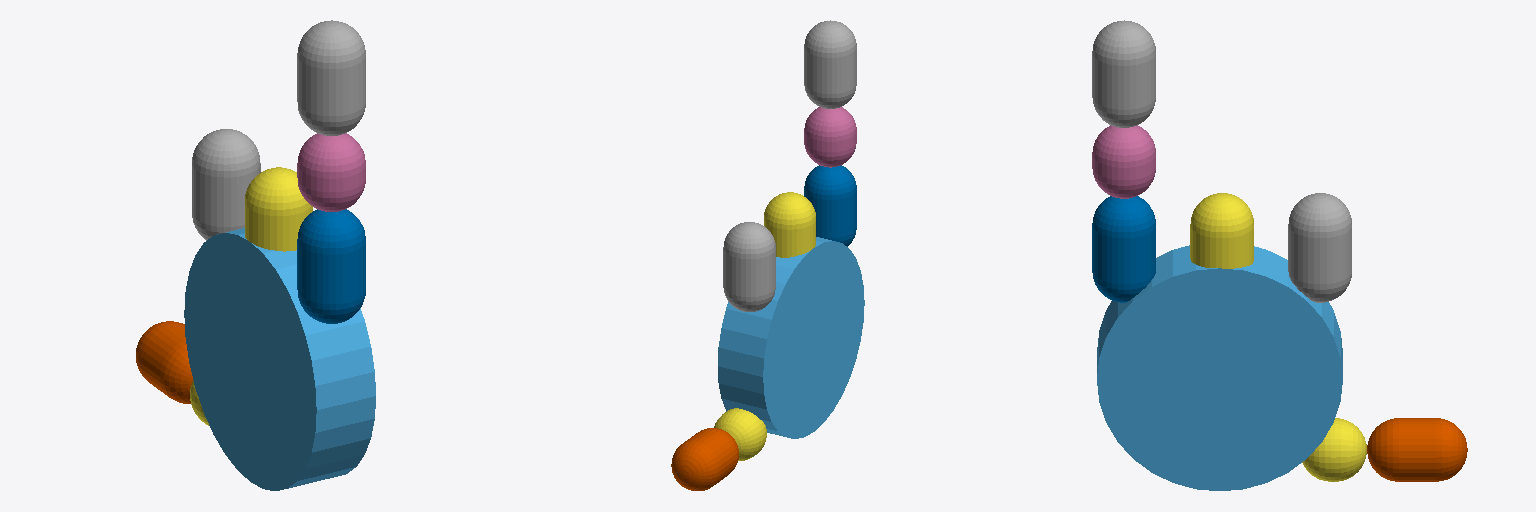
URDF robot description (DexterousHand):
<?xml version="1.0"?>
<robot name="DexterousHand">


    <link name="world"/>
    <joint name="world_to_palm" type="fixed">
        <parent link="world"/>
        <child link="palm"/>
        <origin xyz="0 0 0" rpy="0 0 0"/>
    </joint>
    <link name="palm">
        <inertial>
            <origin xyz="0 0 0.057" rpy="0 0 0"/>
            <mass value="0.30212892864"/>
            <inertia ixx="0.00049080844457568" ixy="0.0" ixz="0.0" iyy="0.00026746366246427523" iyz="0.0" izz="0.00026746366246427523"/>
        </inertial>
        <visual>
            <origin xyz="0 0 0.057" rpy="1.5708 0 1.5708"/>
            <geometry>
                <cylinder radius="0.057" length="0.0296"/>
            </geometry>
            <material name="default"/>
        </visual>
        <collision>
            <origin xyz="0 0 0.057" rpy="1.5708 0 1.5708"/>
            <geometry>
                <cylinder radius="0.057" length="0.0296"/>
            </geometry>
        </collision>
    </link>

    
    <joint name="thumb_joint1" type="revolute">
        <parent link="palm"/>
        <child link="thumb_base"/>
        <origin xyz="0.0029 0.0368 0.0157" rpy="-1.5708 -1.5708 0.0"/>
        <axis xyz="-1 0 0"/>
        <limit lower="-0.349" upper="2.094" effort="1.0" velocity="1.0"/>
    </joint>

    <link name="thumb_base"></link>

    <joint name="thumb_joint2" type="revolute">
        <parent link="thumb_base"/>
        <child link="thumb_proximal"/>
        <origin xyz="0.0 0.0 0.0" rpy="0.0 0.0 0.0"/>
        <axis xyz="0 0 1"/>
        <limit lower="-0.47" upper="2.443" effort="1.0" velocity="1.0"/>
    </joint>

    <link name="thumb_proximal">
        <inertial>
            <origin xyz="0 0 0.01565" rpy="0 0 0"/>
            <mass value="0.021538658803200002"/>
            <inertia ixx="2.9378910096388167e-06" ixy="0.0" ixz="0.0" 
            iyy="2.9378910096388167e-06" iyz="0.0" izz="2.358913912126464e-06"/>
        </inertial>
        <visual>
            <origin xyz="0 0 0.01565" rpy="0 0 0"/>
            <geometry>
                <cylinder radius="0.0148" length="0.0017000000000000001"/>
            </geometry>
            <material name="default"/>
        </visual>
        <visual>
            <origin xyz="0 0 0.0148" rpy="0 0 0"/>
            <geometry>
                <sphere radius="0.0148"/>
            </geometry>
            <material name="default"/>
        </visual>
        <visual>
            <origin xyz="0 0 0.0165" rpy="0 0 0"/>
            <geometry>
                <sphere radius="0.0148"/>
            </geometry>
            <material name="default"/>
        </visual>
        <collision>
            <origin xyz="0 0 0.01565" rpy="0 0 0"/>
            <geometry>
                <cylinder radius="0.0148" length="0.0017000000000000001"/>
            </geometry>
        </collision>
        <collision>
            <origin xyz="0 0 0.0148" rpy="0 0 0"/>
            <geometry>
                <sphere radius="0.0148"/>
            </geometry>
        </collision>
        <collision>
            <origin xyz="0 0 0.0165" rpy="0 0 0"/>
            <geometry>
                <sphere radius="0.0148"/>
            </geometry>
        </collision>
    </link>

    <joint name="thumb_joint3" type="revolute">
        <parent link="thumb_proximal"/>
        <child link="thumb_knuckle"/>
        <origin xyz="0.0 0.0 0.0313" rpy="0.0 0.0 0.0"/>
        <axis xyz="1 0 0"/>
        <limit lower="0.0" upper="0.0" effort="1.0" velocity="1.0"/>
    </joint>

    <link name="thumb_knuckle"></link>

    <joint name="thumb_joint4" type="revolute">
        <parent link="thumb_knuckle"/>
        <child link="thumb_middle"/>
        <origin xyz="0 0 0" rpy="0 0 0"/> 
        <axis xyz="0 1 0"/>
        <limit lower="-1.2" upper="1.9" effort="1.0" velocity="1.0"/>
    </joint>

    <link name="thumb_middle">
        <inertial>
            <origin xyz="0 0 0.0233" rpy="0 0 0"/>
            <mass value="0.032067140582400004"/>
            <inertia ixx="7.5589732685519385e-06" ixy="0.0" ixz="0.0" 
            iyy="7.5589732685519385e-06" iyz="0.0" izz="3.5119932365844485e-06"/>
        </inertial>
        <visual>
            <origin xyz="0 0 0.0233" rpy="0 0 0"/>
            <geometry>
                <cylinder radius="0.0148" length="0.017"/>
            </geometry>
            <material name="default"/>
        </visual>
        <visual>
            <origin xyz="0 0 0.0148" rpy="0 0 0"/>
            <geometry>
                <sphere radius="0.0148"/>
            </geometry>
            <material name="default"/>
        </visual>
        <visual>
            <origin xyz="0 0 0.0318" rpy="0 0 0"/>
            <geometry>
                <sphere radius="0.0148"/>
            </geometry>
            <material name="default"/>
        </visual>
        <collision>
            <origin xyz="0 0 0.0233" rpy="0 0 0"/>
            <geometry>
                <cylinder radius="0.0148" length="0.017"/>
            </geometry>
        </collision>
        <collision>
            <origin xyz="0 0 0.0148" rpy="0 0 0"/>
            <geometry>
                <sphere radius="0.0148"/>
            </geometry>
        </collision>
        <collision>
            <origin xyz="0 0 0.0318" rpy="0 0 0"/>
            <geometry>
                <sphere radius="0.0148"/>
            </geometry>
        </collision>
    </link>

    <joint name="thumb_joint5" type="revolute">
        <parent link="thumb_middle"/>
        <child link="thumb_distal"/>
        <origin xyz="0 0 0.0466" rpy="0 0 0"/> 
        <axis xyz="0 1 0"/>
        <limit lower="0.0" upper="0.0" effort="1.0" velocity="1.0"/>
    </joint>

    <link name="thumb_distal">
    </link>

    
    <joint name="index_joint1" type="revolute">
        <parent link="palm"/>
        <child link="index_proximal"/>
        <origin xyz="0.0 0.0465 0.091" rpy="0.0 0.0 0.0"/>
        <axis xyz="0 1 0"/>
        <limit lower="-0.314" upper="2.23" effort="1.0" velocity="1.0"/>
    </joint>

    <link name="index_proximal">
        <inertial>
            <origin xyz="0 0 0.02655" rpy="0 0 0"/>
            <mass value="0.036540024998400006"/>
            <inertia ixx="1.058665009272394e-05" ixy="0.0" ixz="0.0" 
            iyy="1.058665009272394e-05" iyz="0.0" izz="4.001863537824769e-06"/>
        </inertial>
        <visual>
            <origin xyz="0 0 0.02655" rpy="0 0 0"/>
            <geometry>
                <cylinder radius="0.0148" length="0.0235"/>
            </geometry>
            <material name="default"/>
        </visual>
        <visual>
            <origin xyz="0 0 0.0148" rpy="0 0 0"/>
            <geometry>
                <sphere radius="0.0148"/>
            </geometry>
            <material name="default"/>
        </visual>
        <visual>
            <origin xyz="0 0 0.0383" rpy="0 0 0"/>
            <geometry>
                <sphere radius="0.0148"/>
            </geometry>
            <material name="default"/>
        </visual>
        <collision>
            <origin xyz="0 0 0.02655" rpy="0 0 0"/>
            <geometry>
                <cylinder radius="0.0148" length="0.0235"/>
            </geometry>
        </collision>
        <collision>
            <origin xyz="0 0 0.0148" rpy="0 0 0"/>
            <geometry>
                <sphere radius="0.0148"/>
            </geometry>
        </collision>
        <collision>
            <origin xyz="0 0 0.0383" rpy="0 0 0"/>
            <geometry>
                <sphere radius="0.0148"/>
            </geometry>
        </collision>
    </link>

    <joint name="index_joint2" type="revolute">
        <parent link="index_proximal"/>
        <child link="index_dummy"/>
        <origin xyz="0.0 0.0 0.038" rpy="0.0 0.0 0.0"/>
        <axis xyz="0 1 0"/>
        <limit lower="0.0" upper="0.0" effort="1.0" velocity="1.0"/>
    </joint>

    <link name="index_dummy"></link>

    <joint name="index_joint3" type="revolute">
        <parent link="index_dummy"/>
        <child link="index_middle"/>
        <origin xyz="0 0 0.015100000000000002" rpy="0 0 0"/>
        <axis xyz="0 1 0"/>
        <limit lower="0.0" upper="0.0" effort="1.0" velocity="1.0"/>
    </joint>

    <link name="index_middle">
    </link>

    <joint name="index_joint4" type="revolute">
        <parent link="index_middle"/>
        <child link="index_distal"/>
        <origin xyz="0 0 0" rpy="0 0 0"/> 
        <axis xyz="0 1 0"/>
        <limit lower="0.0" upper="0.0" effort="1.0" velocity="1.0"/>
    </joint>

    <link name="index_distal">
    </link>

    
    <joint name="middle_joint1" type="revolute">
        <parent link="palm"/>
        <child link="middle_proximal"/>
        <origin xyz="0.0 0.0011 0.091" rpy="0.0 0.0 0.0"/>
        <axis xyz="0 1 0"/>
        <limit lower="-0.314" upper="2.23" effort="1.0" velocity="1.0"/>
    </joint>

    <link name="middle_proximal">
        <inertial>
            <origin xyz="0 0 0.02655" rpy="0 0 0"/>
            <mass value="0.036540024998400006"/>
            <inertia ixx="1.058665009272394e-05" ixy="0.0" ixz="0.0" 
            iyy="1.058665009272394e-05" iyz="0.0" izz="4.001863537824769e-06"/>
        </inertial>
        <visual>
            <origin xyz="0 0 0.02655" rpy="0 0 0"/>
            <geometry>
                <cylinder radius="0.0148" length="0.0235"/>
            </geometry>
            <material name="default"/>
        </visual>
        <visual>
            <origin xyz="0 0 0.0148" rpy="0 0 0"/>
            <geometry>
                <sphere radius="0.0148"/>
            </geometry>
            <material name="default"/>
        </visual>
        <visual>
            <origin xyz="0 0 0.0383" rpy="0 0 0"/>
            <geometry>
                <sphere radius="0.0148"/>
            </geometry>
            <material name="default"/>
        </visual>
        <collision>
            <origin xyz="0 0 0.02655" rpy="0 0 0"/>
            <geometry>
                <cylinder radius="0.0148" length="0.0235"/>
            </geometry>
        </collision>
        <collision>
            <origin xyz="0 0 0.0148" rpy="0 0 0"/>
            <geometry>
                <sphere radius="0.0148"/>
            </geometry>
        </collision>
        <collision>
            <origin xyz="0 0 0.0383" rpy="0 0 0"/>
            <geometry>
                <sphere radius="0.0148"/>
            </geometry>
        </collision>
    </link>

    <joint name="middle_joint2" type="revolute">
        <parent link="middle_proximal"/>
        <child link="middle_dummy"/>
        <origin xyz="0.0 0.0 0.038" rpy="0.0 0.0 0.0"/>
        <axis xyz="0 1 0"/>
        <limit lower="0.0" upper="0.0" effort="1.0" velocity="1.0"/>
    </joint>

    <link name="middle_dummy"></link>

    <joint name="middle_joint3" type="revolute">
        <parent link="middle_dummy"/>
        <child link="middle_middle"/>
        <origin xyz="0 0 0.015100000000000002" rpy="0 0 0"/>
        <axis xyz="0 1 0"/>
        <limit lower="0.0" upper="0.0" effort="1.0" velocity="1.0"/>
    </joint>

    <link name="middle_middle">
    </link>

    <joint name="middle_joint4" type="revolute">
        <parent link="middle_middle"/>
        <child link="middle_distal"/>
        <origin xyz="0 0 0" rpy="0 0 0"/> 
        <axis xyz="0 1 0"/>
        <limit lower="0.0" upper="0.0" effort="1.0" velocity="1.0"/>
    </joint>

    <link name="middle_distal">
    </link>

    
    <joint name="ring_joint1" type="revolute">
        <parent link="palm"/>
        <child link="ring_proximal"/>
        <origin xyz="0.0 0.0 0.0" rpy="0.0 0.0 0.0"/>
        <axis xyz="1 0 0"/>
        <limit lower="0.0" upper="0.0" effort="1.0" velocity="1.0"/>
    </joint>

    <link name="ring_proximal">
    </link>

    <joint name="ring_joint2" type="revolute">
        <parent link="ring_proximal"/>
        <child link="ring_dummy"/>
        <origin xyz="0.0 0.0 0.0" rpy="0.0 0.0 0.0"/>
        <axis xyz="0 1 0"/>
        <limit lower="0.0" upper="0.0" effort="1.0" velocity="1.0"/>
    </joint>

    <link name="ring_dummy"></link>

    <joint name="ring_joint3" type="revolute">
        <parent link="ring_dummy"/>
        <child link="ring_middle"/>
        <origin xyz="0 0 0" rpy="0 0 0"/>
        <axis xyz="0 1 0"/>
        <limit lower="0.0" upper="0.0" effort="1.0" velocity="1.0"/>
    </joint>

    <link name="ring_middle">
    </link>

    <joint name="ring_joint4" type="revolute">
        <parent link="ring_middle"/>
        <child link="ring_distal"/>
        <origin xyz="0 0 0" rpy="0 0 0"/> 
        <axis xyz="0 1 0"/>
        <limit lower="0.0" upper="0.0" effort="1.0" velocity="1.0"/>
    </joint>

    <link name="ring_distal">
    </link>

    
    <joint name="little_joint0" type="revolute">
        <parent link="palm"/>
        <child link="little_base"/>
        <origin xyz="0.0 0.0 0.0" rpy="0.0 0.0 0.0"/>
        <axis xyz="0 1 0"/>
        <limit lower="0.0" upper="0.0" effort="1.0" velocity="1.0"/>
    </joint>

    <link name="little_base"></link>

    <joint name="little_joint1" type="revolute">
        <parent link="little_base"/>
        <child link="little_proximal"/>
        <origin xyz="0.0 -0.0443 0.091" rpy="-0.0 -0.0 -0.0"/>
        <axis xyz="0 1 0"/>
        <limit lower="-0.314" upper="2.23" effort="1.0" velocity="1.0"/>
    </joint>

    <link name="little_proximal">
        <inertial>
            <origin xyz="0 0 0.02655" rpy="0 0 0"/>
            <mass value="0.036540024998400006"/>
            <inertia ixx="1.058665009272394e-05" ixy="0.0" ixz="0.0" 
            iyy="1.058665009272394e-05" iyz="0.0" izz="4.001863537824769e-06"/>
        </inertial>
        <visual>
            <origin xyz="0 0 0.02655" rpy="0 0 0"/>
            <geometry>
                <cylinder radius="0.0148" length="0.0235"/>
            </geometry>
            <material name="default"/>
        </visual>
        <visual>
            <origin xyz="0 0 0.0148" rpy="0 0 0"/>
            <geometry>
                <sphere radius="0.0148"/>
            </geometry>
            <material name="default"/>
        </visual>
        <visual>
            <origin xyz="0 0 0.0383" rpy="0 0 0"/>
            <geometry>
                <sphere radius="0.0148"/>
            </geometry>
            <material name="default"/>
        </visual>
        <collision>
            <origin xyz="0 0 0.02655" rpy="0 0 0"/>
            <geometry>
                <cylinder radius="0.0148" length="0.0235"/>
            </geometry>
        </collision>
        <collision>
            <origin xyz="0 0 0.0148" rpy="0 0 0"/>
            <geometry>
                <sphere radius="0.0148"/>
            </geometry>
        </collision>
        <collision>
            <origin xyz="0 0 0.0383" rpy="0 0 0"/>
            <geometry>
                <sphere radius="0.0148"/>
            </geometry>
        </collision>
    </link>

    <joint name="little_joint2" type="revolute">
        <parent link="little_proximal"/>
        <child link="little_dummy"/>
        <origin xyz="0.0 0.0 0.038" rpy="0.0 0.0 0.0"/>
        <axis xyz="1 0 0"/>
        <limit lower="-1.047" upper="1.047" effort="1.0" velocity="1.0"/>
    </joint>

    <link name="little_dummy"></link>

    <joint name="little_joint3" type="revolute">
        <parent link="little_dummy"/>
        <child link="little_middle"/>
        <origin xyz="0 0 0.015100000000000002" rpy="0 0 0"/>
        <axis xyz="0 1 0"/>
        <limit lower="-0.506" upper="1.885" effort="1.0" velocity="1.0"/>
    </joint>

    <link name="little_middle">
        <inertial>
            <origin xyz="0 0 0.01805" rpy="0 0 0"/>
            <mass value="0.0248417119104"/>
            <inertia ixx="4.058162759109537e-06" ixy="0.0" ixz="0.0" 
            iyy="4.058162759109537e-06" iyz="0.0" izz="2.7206642884270085e-06"/>
        </inertial>
        <visual>
            <origin xyz="0 0 0.01805" rpy="0 0 0"/>
            <geometry>
                <cylinder radius="0.0148" length="0.006499999999999999"/>
            </geometry>
            <material name="default"/>
        </visual>
        <visual>
            <origin xyz="0 0 0.0148" rpy="0 0 0"/>
            <geometry>
                <sphere radius="0.0148"/>
            </geometry>
            <material name="default"/>
        </visual>
        <visual>
            <origin xyz="0 0 0.0213" rpy="0 0 0"/>
            <geometry>
                <sphere radius="0.0148"/>
            </geometry>
            <material name="default"/>
        </visual>
        <collision>
            <origin xyz="0 0 0.01805" rpy="0 0 0"/>
            <geometry>
                <cylinder radius="0.0148" length="0.006499999999999999"/>
            </geometry>
        </collision>
        <collision>
            <origin xyz="0 0 0.0148" rpy="0 0 0"/>
            <geometry>
                <sphere radius="0.0148"/>
            </geometry>
        </collision>
        <collision>
            <origin xyz="0 0 0.0213" rpy="0 0 0"/>
            <geometry>
                <sphere radius="0.0148"/>
            </geometry>
        </collision>
    </link>

    <joint name="little_joint4" type="revolute">
        <parent link="little_middle"/>
        <child link="little_distal"/>
        <origin xyz="0 0 0.0361" rpy="0 0 0"/>
        <axis xyz="0 1 0"/>
        <limit lower="-0.366" upper="2.042" effort="1.0" velocity="1.0"/>
    </joint>

    <link name="little_distal">
        <inertial>
            <origin xyz="0 0 0.026" rpy="0 0 0"/>
            <mass value="0.035783075328"/>
            <inertia ixx="1.002260084553728e-05" ixy="0.0" ixz="0.0" 
            iyy="1.002260084553728e-05" iyz="0.0" izz="3.91896240992256e-06"/>
        </inertial>
        <visual>
            <origin xyz="0 0 0.026" rpy="0 0 0"/>
            <geometry>
                <cylinder radius="0.0148" length="0.022399999999999996"/>
            </geometry>
            <material name="default"/>
        </visual>
        <visual>
            <origin xyz="0 0 0.0148" rpy="0 0 0"/>
            <geometry>
                <sphere radius="0.0148"/>
            </geometry>
            <material name="default"/>
        </visual>
        <visual>
            <origin xyz="0 0 0.0372" rpy="0 0 0"/>
            <geometry>
                <sphere radius="0.0148"/>
            </geometry>
            <material name="default"/>
        </visual>
        <collision>
            <origin xyz="0 0 0.026" rpy="0 0 0"/>
            <geometry>
                <cylinder radius="0.0148" length="0.022399999999999996"/>
            </geometry>
        </collision>
        <collision>
            <origin xyz="0 0 0.0148" rpy="0 0 0"/>
            <geometry>
                <sphere radius="0.0148"/>
            </geometry>
        </collision>
        <collision>
            <origin xyz="0 0 0.0372" rpy="0 0 0"/>
            <geometry>
                <sphere radius="0.0148"/>
            </geometry>
        </collision>
    </link>

</robot>

--- Facts derived from the render (not from the file) ---
Views: 3 orthographic renders of the robot side by side, from view 1: azimuth 30°, elevation 25°; view 2: azimuth 150°, elevation 25°; view 3: azimuth 270°, elevation 25°.
Model DexterousHand with 24 links and 23 joints (22 revolute, 1 fixed), rooted at world, posed all joints at 0.
Visible links, largest first — view 1: palm, little_proximal, little_distal, index_proximal, little_middle, middle_proximal, thumb_middle; view 2: palm, index_proximal, little_distal, little_proximal, thumb_middle, middle_proximal, little_middle, thumb_proximal; view 3: palm, index_proximal, little_distal, little_proximal, thumb_middle, middle_proximal, little_middle, thumb_proximal.
Boxes of the visible links, x1,y1,x2,y2 form: palm: (184,228,375,490); little_proximal: (297,209,365,323); little_distal: (297,20,365,135); index_proximal: (192,129,260,240); little_middle: (297,133,365,211); middle_proximal: (245,167,312,251); thumb_middle: (136,321,192,403); palm: (718,237,864,438); index_proximal: (723,222,775,311); little_distal: (804,20,856,108); little_proximal: (804,165,856,246); thumb_middle: (671,428,738,490); middle_proximal: (764,192,815,257); little_middle: (804,107,856,167); thumb_proximal: (714,408,766,460); palm: (1097,245,1342,490); index_proximal: (1288,193,1351,302); little_distal: (1092,20,1155,127); little_proximal: (1092,196,1155,302); thumb_middle: (1367,418,1467,481); middle_proximal: (1190,193,1253,268); little_middle: (1092,125,1155,198); thumb_proximal: (1302,418,1366,481).
Bounding box of the posed robot: 0.0325 × 0.1738 × 0.2322 m (x, y, z).
Geometry: primitives only (box / cylinder / sphere), no mesh files.
